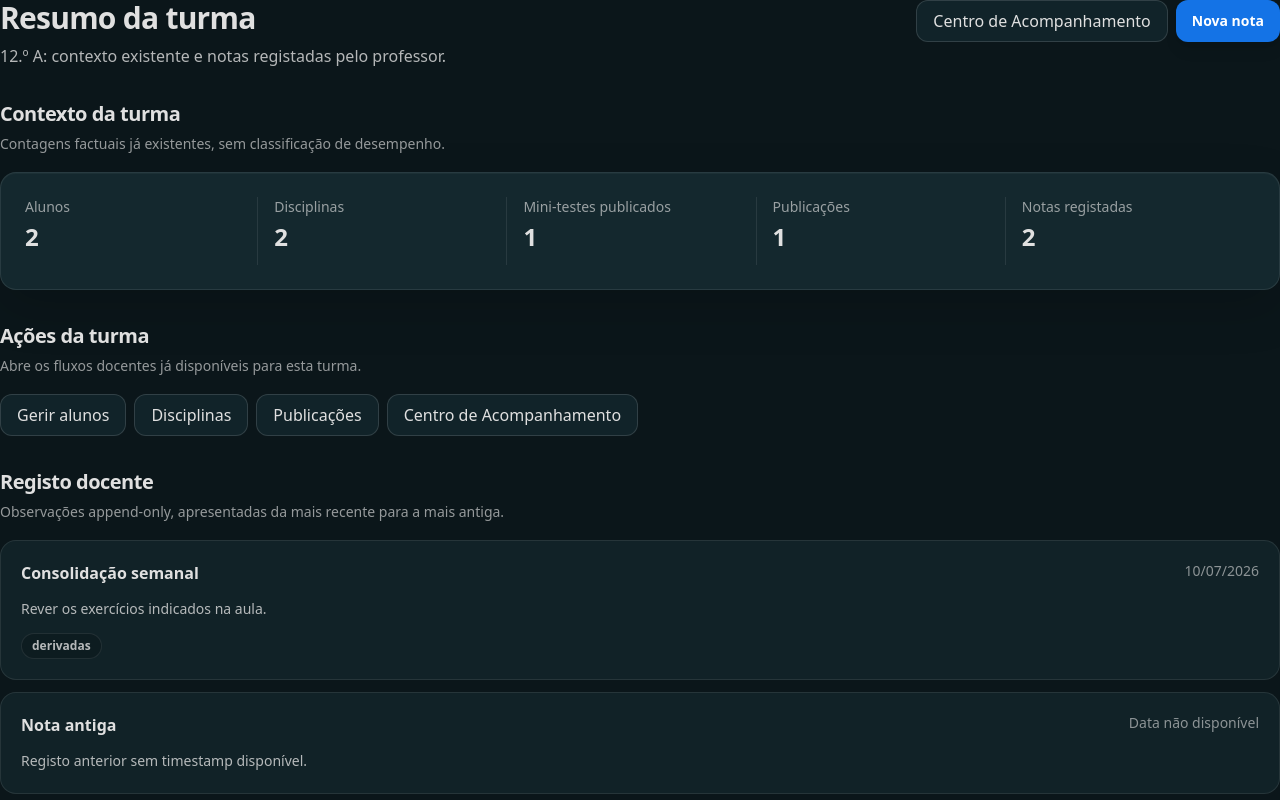
TeacherClassProgressPage › mantém o resumo utilizável quando a criação da nota falha
Click the button "Nova nota". click: (1228, 21)
box: [1176,0,1279,42]
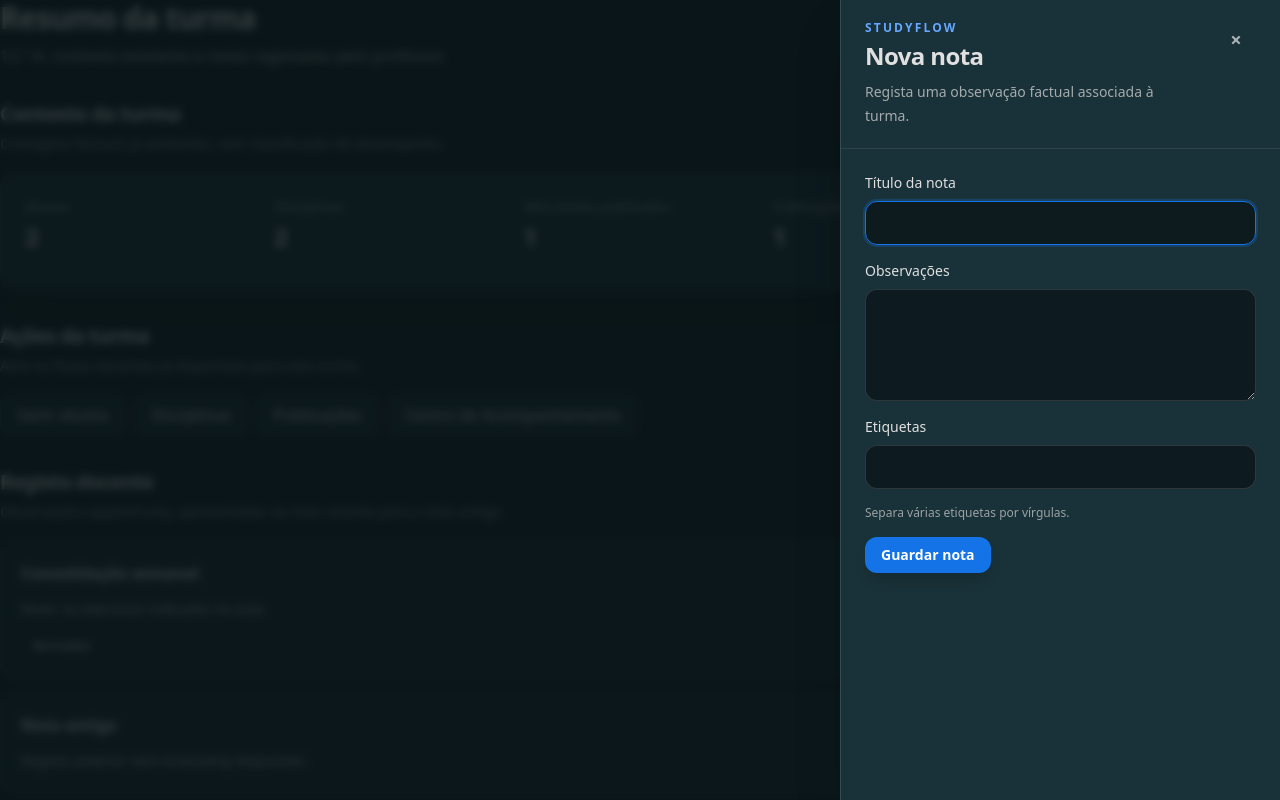
Type "Observação" into the field labelled "Título da nota". click: (1060, 223)
box: [865,201,1256,245]
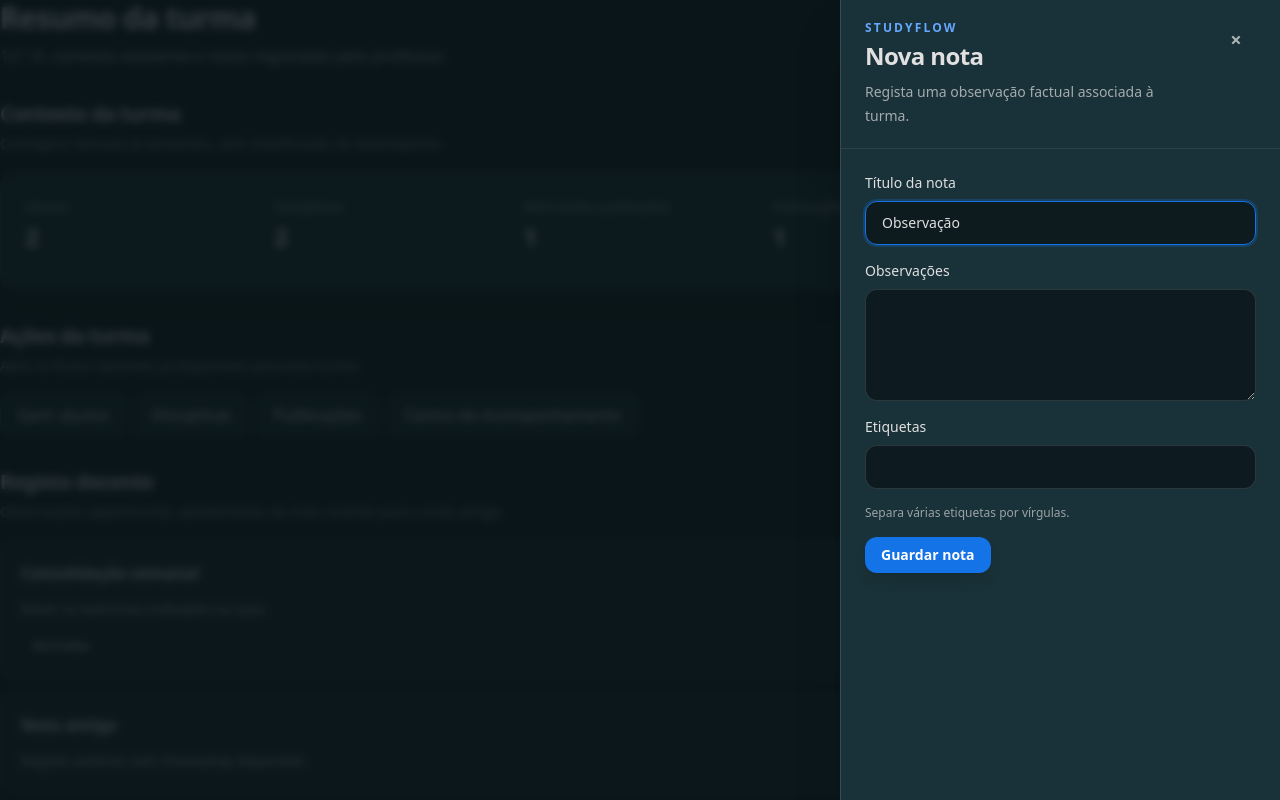
Type "Texto suficiente" into the text box labelled "Observações". click: (1060, 345)
box: [865,289,1256,401]
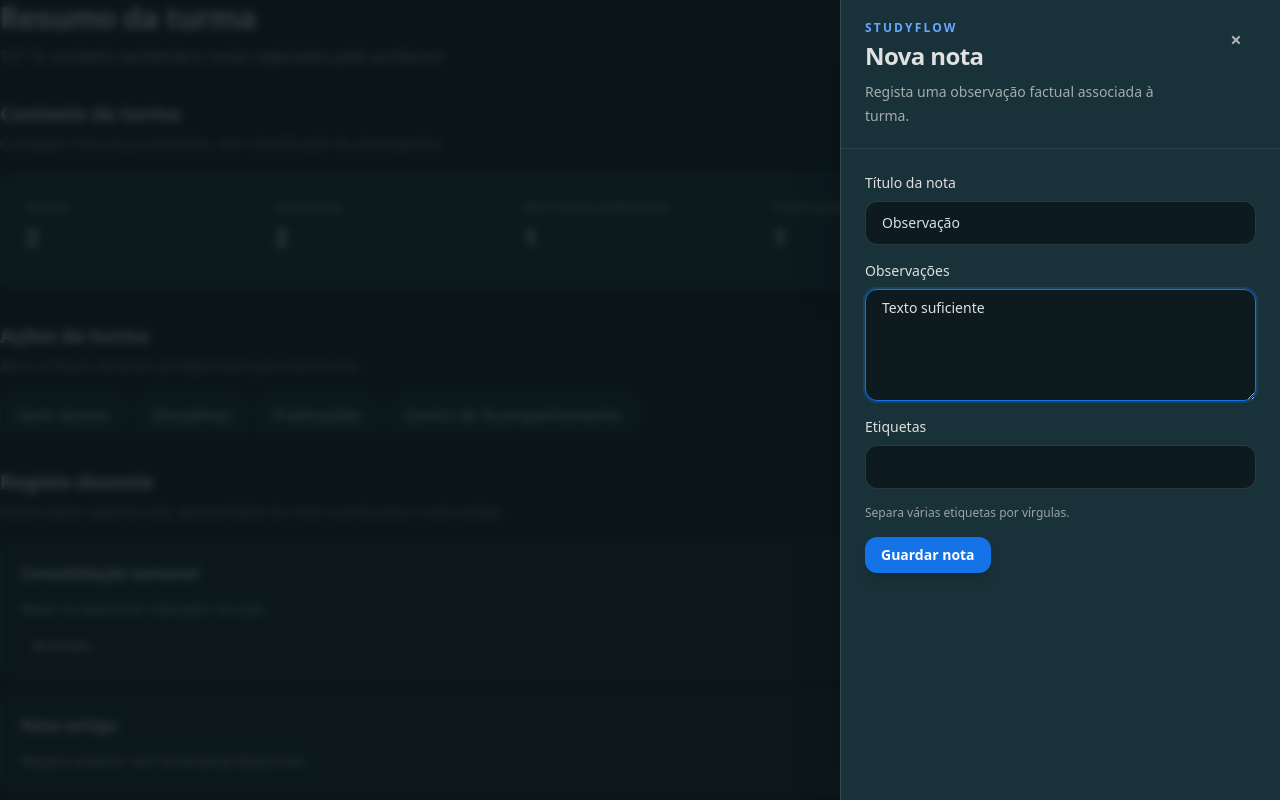
Click the button "Guardar nota". click: (928, 555)
box: [865,537,991,573]
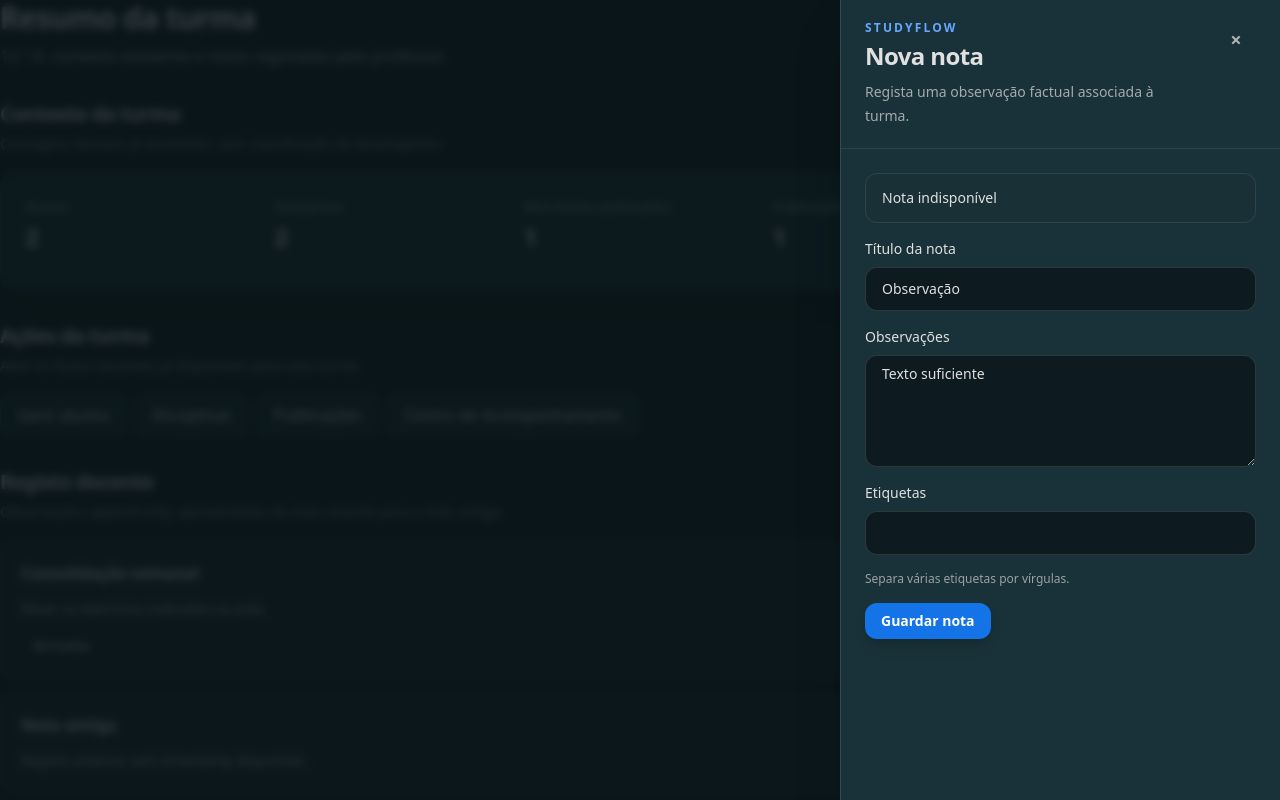
Expected: the message reads "Nota indisponível", [882,188,997,207]
